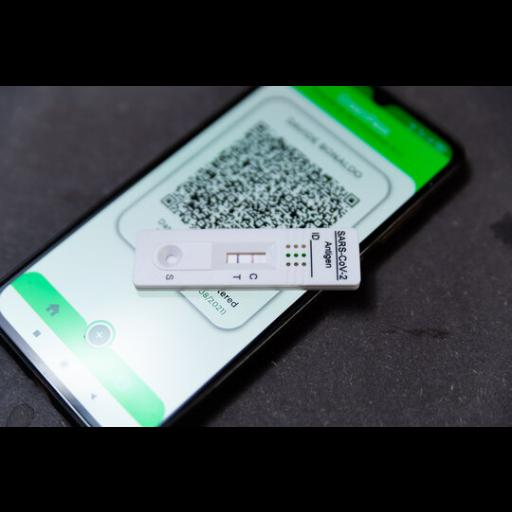Pos: (134, 227, 361, 283)
